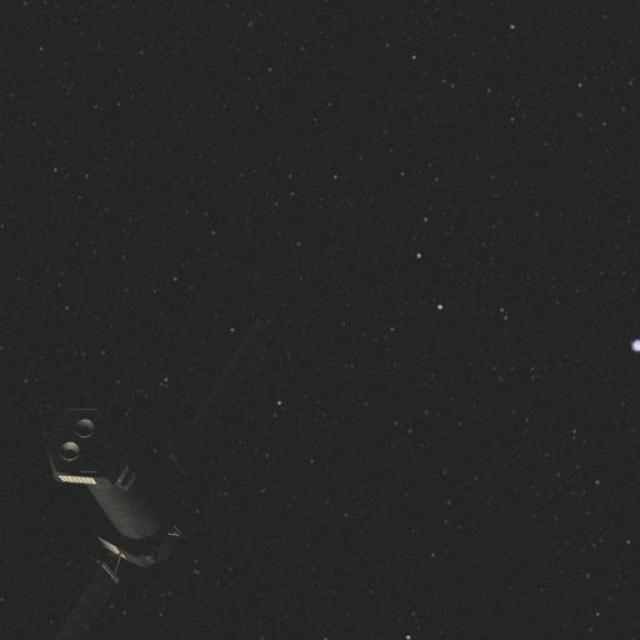xmm_newton: (0, 325, 299, 639)
